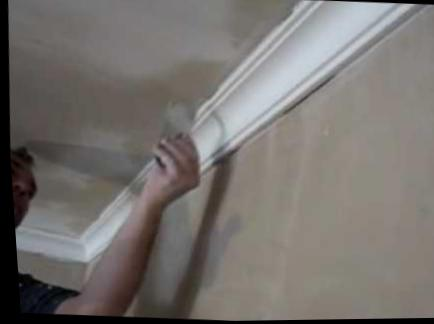crack: (283, 79, 331, 116)
